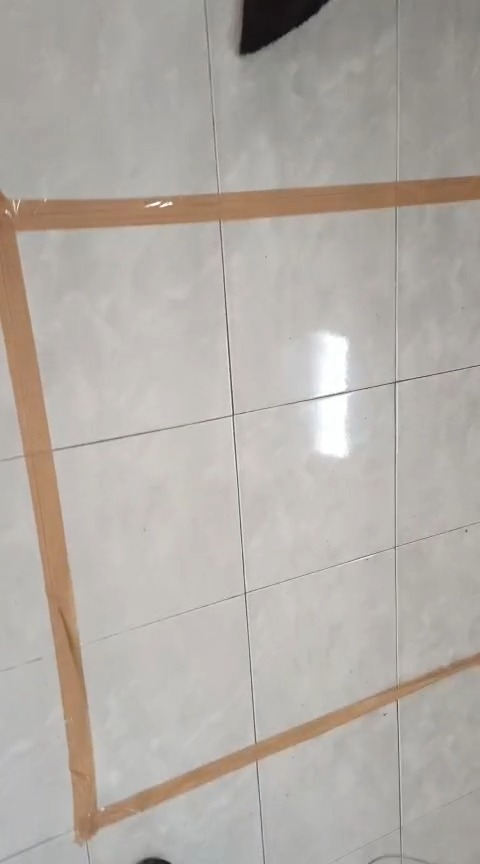floor marking: (0, 178, 479, 841)
